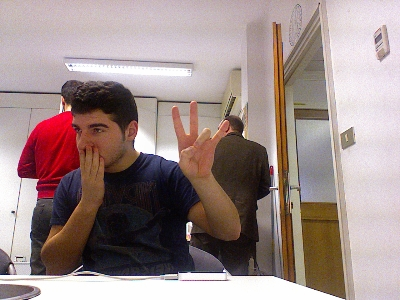观音: (170, 98, 228, 181)
